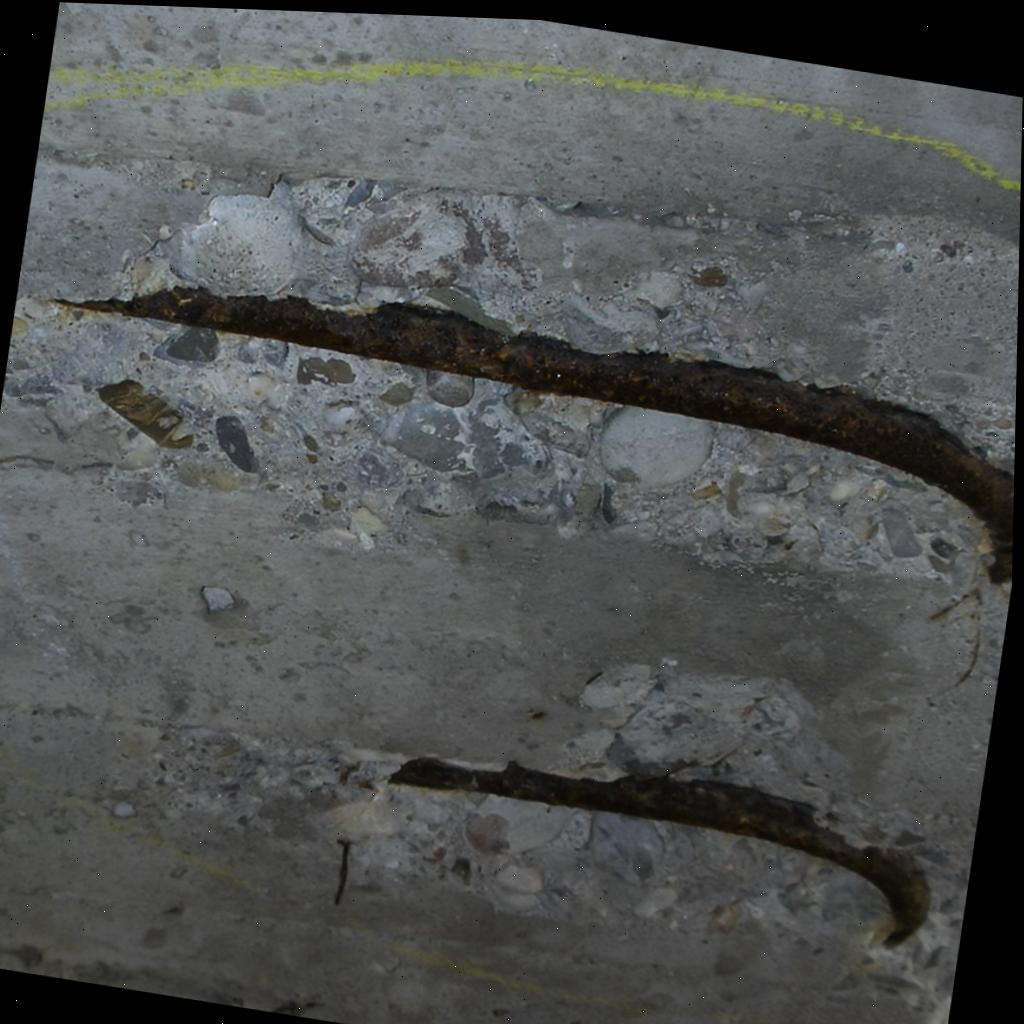exposed_rebar: (70, 286, 1014, 581), (390, 757, 930, 944)
